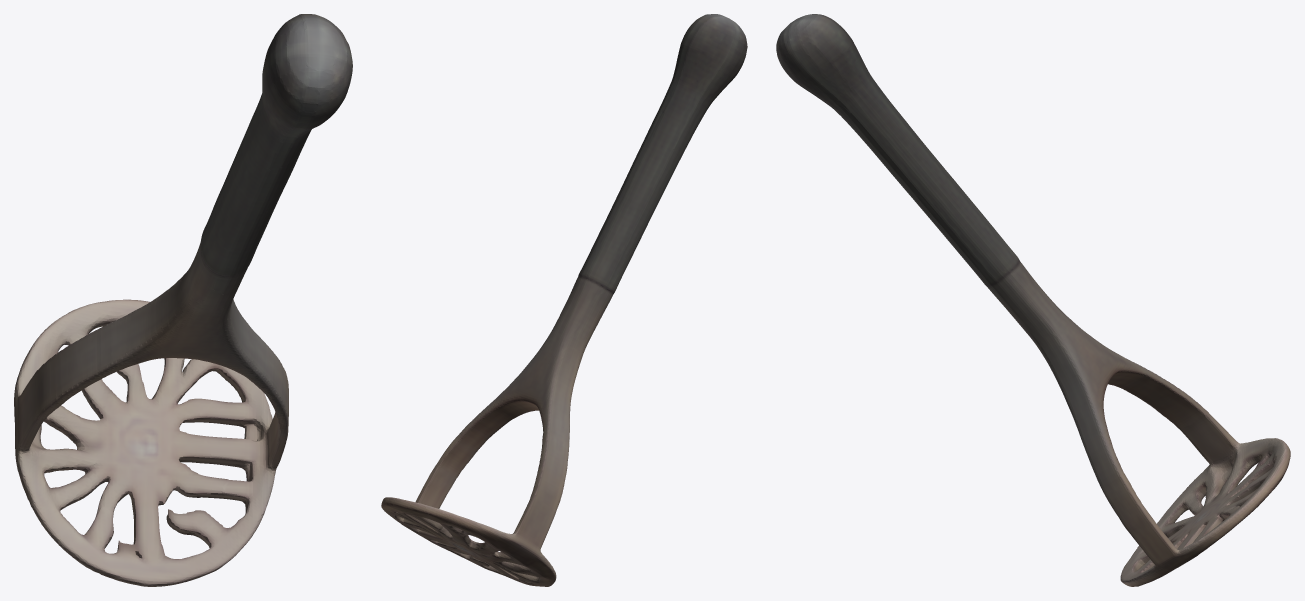
The model's file is frame_0053_source_000053_object.glb.
3 renders of one model, left to right at view 1: azimuth 30°, elevation 25°; view 2: azimuth 150°, elevation 25°; view 3: azimuth 270°, elevation 25°, orthographic. The views are drawn at different scales.
Visible parts, largest first — view 1: world; view 2: world; view 3: world.
Part boxes in pixels (x1=…): world: x1=14, y1=14, x2=352, y2=586; world: x1=381, y1=14, x2=747, y2=586; world: x1=776, y1=14, x2=1290, y2=586.
Bounding box in the file's own units: 0.084 × 0.2223 × 0.1961.
